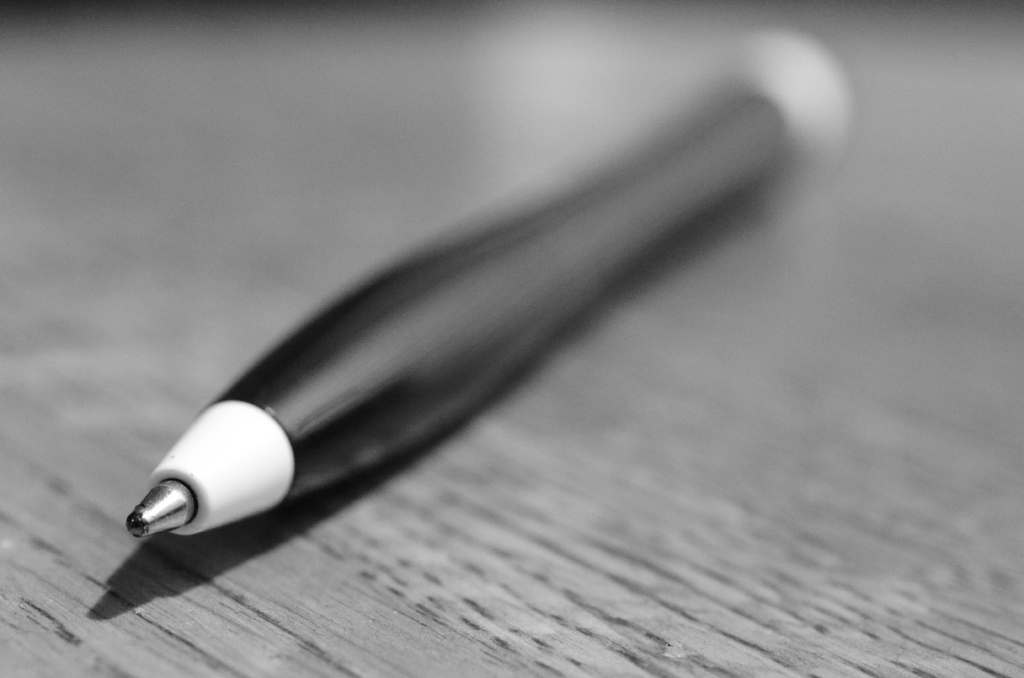Pen: (128, 26, 854, 537)
